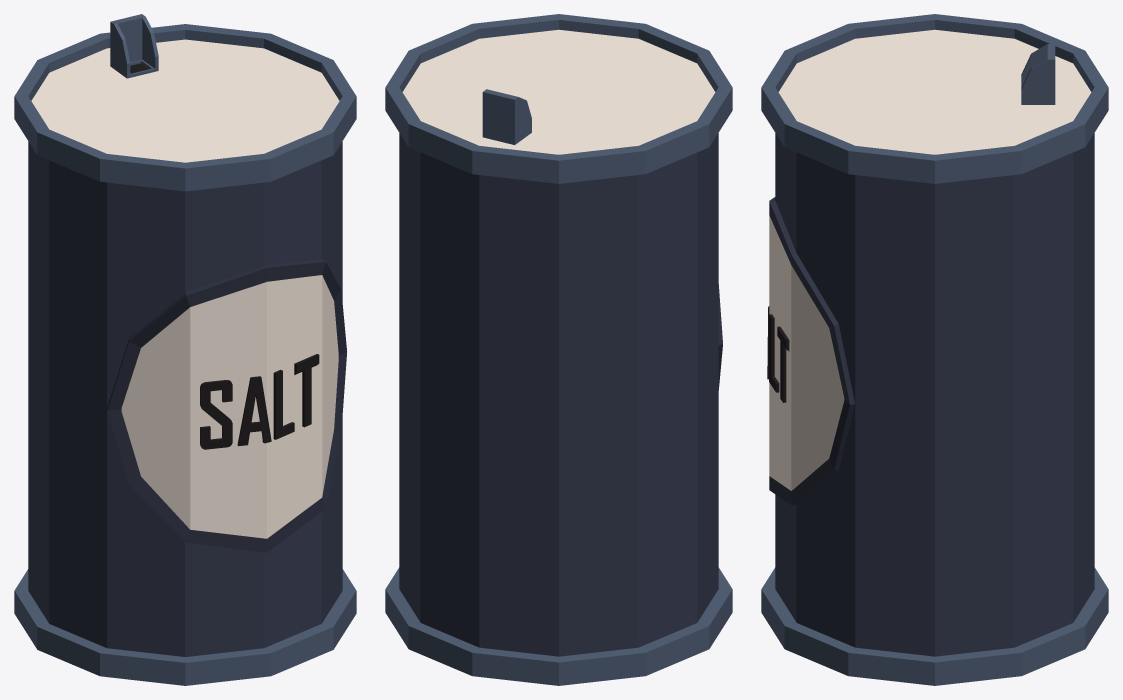
File: Salt.fbx
3 views of the same model, side by side, from view 1: azimuth 30°, elevation 25°; view 2: azimuth 150°, elevation 25°; view 3: azimuth 270°, elevation 25° (orthographic).
Visible parts, largest first — view 1: Salt Container, Tab; view 2: Salt Container, Tab; view 3: Salt Container, Tab.
Part boxes in pixels (bbox=[...]): Salt Container: bbox=[14, 24, 356, 685]; Tab: bbox=[110, 14, 158, 78]; Salt Container: bbox=[385, 14, 732, 685]; Tab: bbox=[482, 89, 531, 144]; Salt Container: bbox=[761, 14, 1108, 685]; Tab: bbox=[1021, 44, 1055, 104].
Size of the model in its own units: 7.53 by 13.41 by 7.53.
